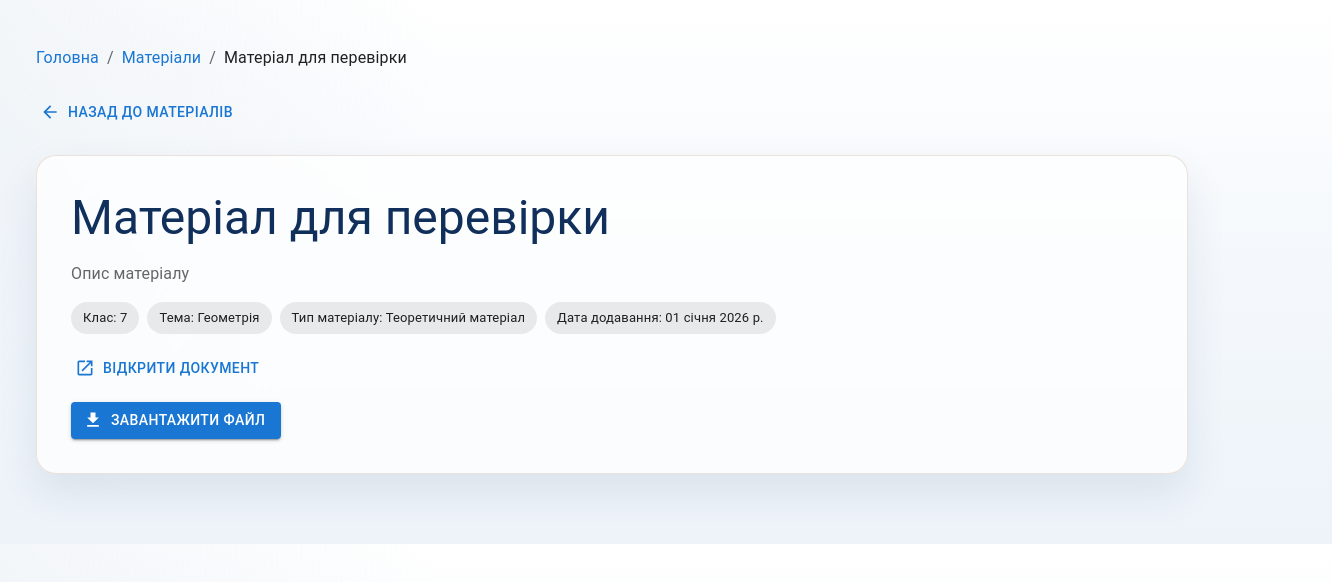
Test: DocumentDetailsPage › records one download from the details download button even when analytics fails
Double-click the button "Завантажити файл" at (176, 420), box 71,402 -> 281,438
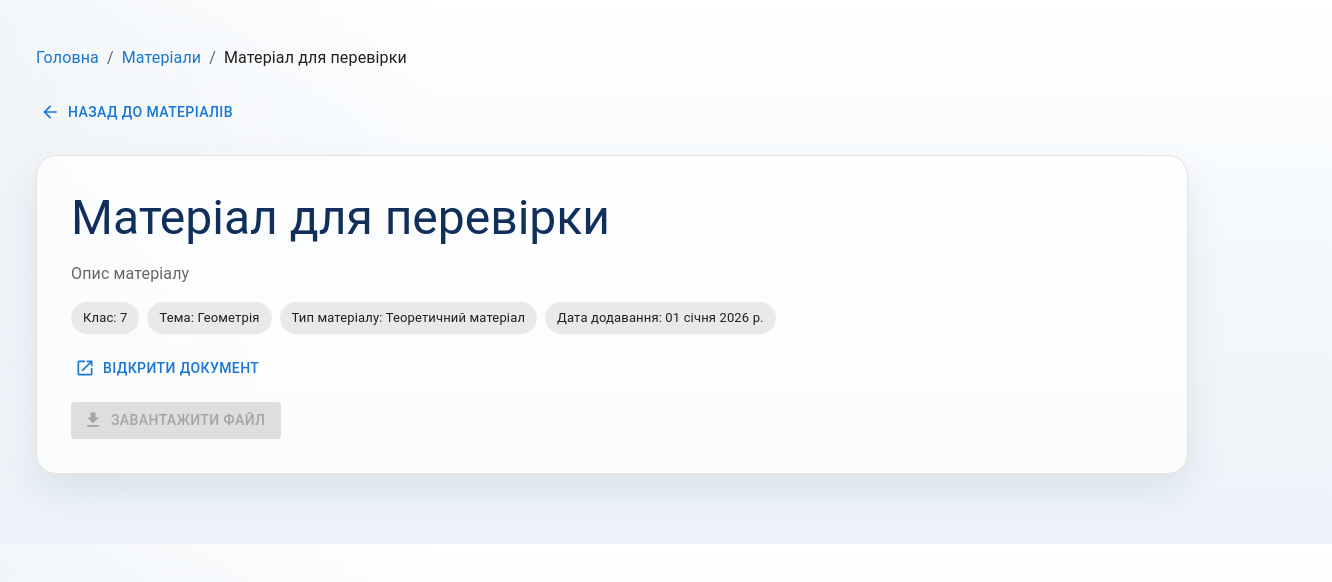
Result: the button "Завантажити файл" is disabled at 71,402 -> 281,438
